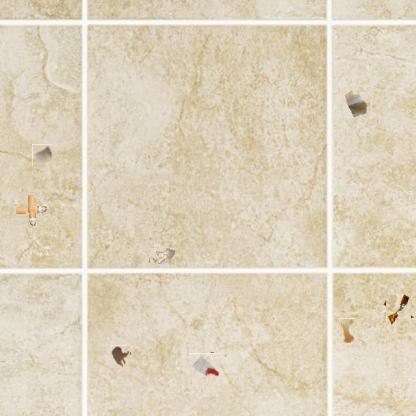dirty: (342, 86, 372, 118), (384, 295, 414, 325), (190, 352, 219, 380), (19, 198, 43, 222), (32, 144, 53, 167), (149, 247, 175, 265)
liquid: (110, 346, 131, 367), (339, 318, 355, 343)
